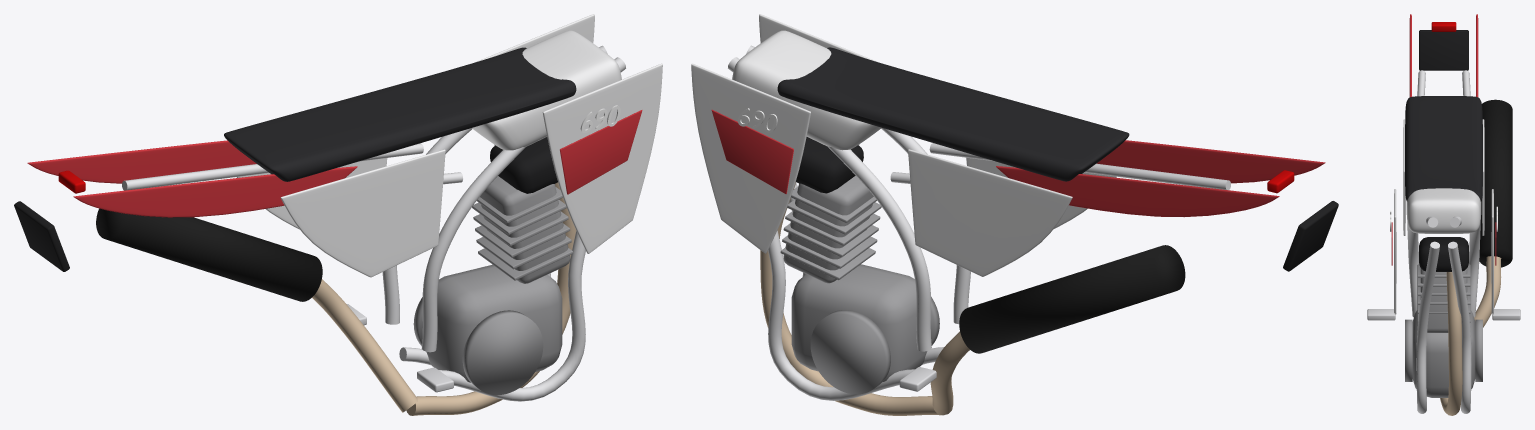
Rendered from SM690_Telaio.glb.
The picture shows the model from 3 angles, left to right: view 1: azimuth 30°, elevation 25°; view 2: azimuth 150°, elevation 25°; view 3: azimuth 270°, elevation 25°; orthographic projection. The views are drawn at different scales.
Visible parts, largest first — view 1: SM690_Telaio; view 2: SM690_Telaio; view 3: SM690_Telaio.
Boxes of the visible parts, x1,y1,x2,y2 form: SM690_Telaio: (14,14,662,415); SM690_Telaio: (691,14,1338,415); SM690_Telaio: (1367,14,1520,415).
Bounding box in the file's own units: 1.59 × 0.8637 × 0.49.
